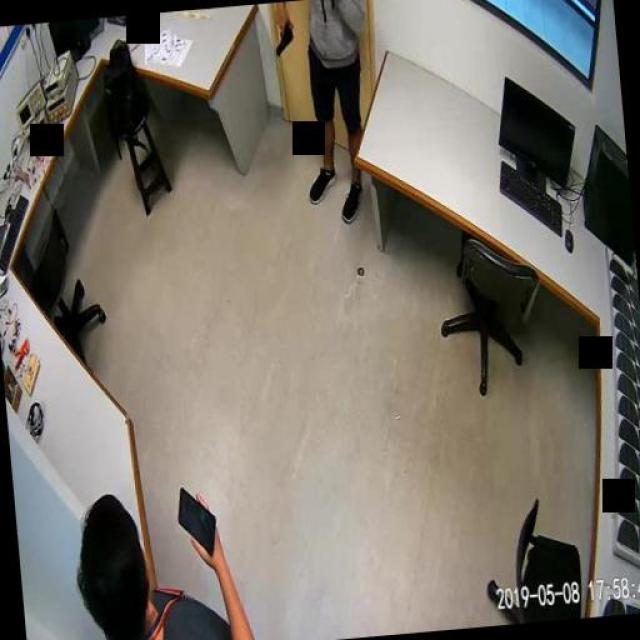gun: (271, 13, 295, 55)
